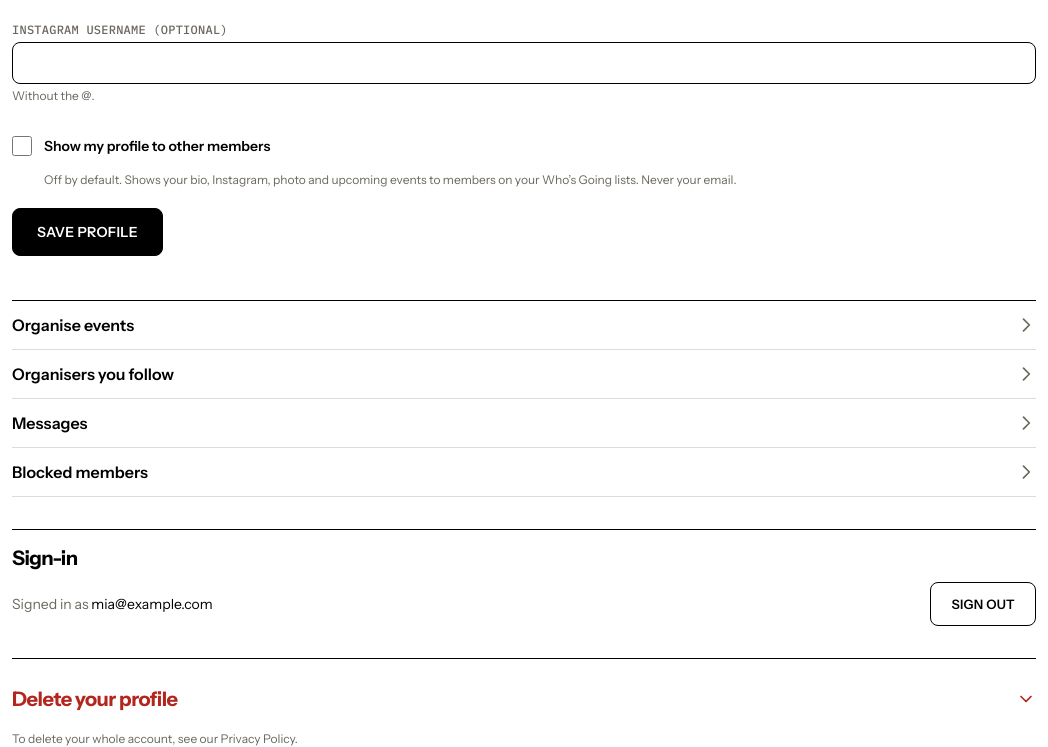
member profile settings (/account) › sits first on the account page in the Your profile card, off by default, with the delete wording updated
The image size is (1048, 747).
(page scrolled)
Expected: the checkbox labelled "Show my profile to other members" is not checked, [12,136,32,156]
Click the button "Delete your profile" at (95, 699), box [12,675,1036,723]
(page scrolled)
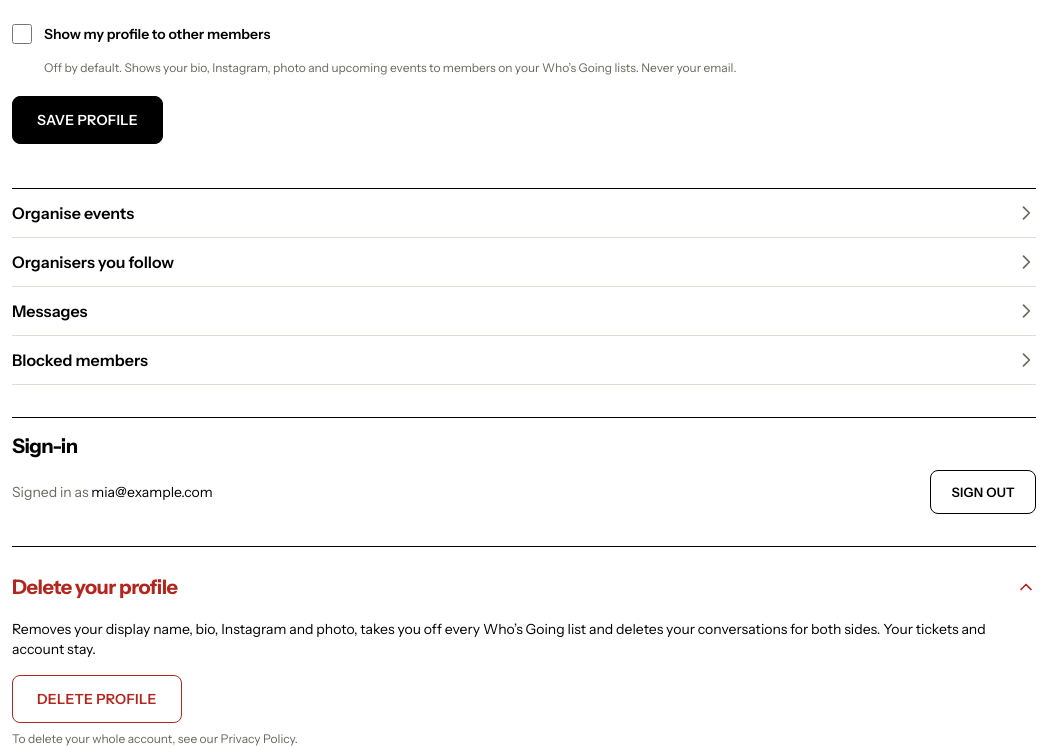
Expected: the text "Removes your display name, bio, Instagram and photo" is shown, [12,620,986,658]
